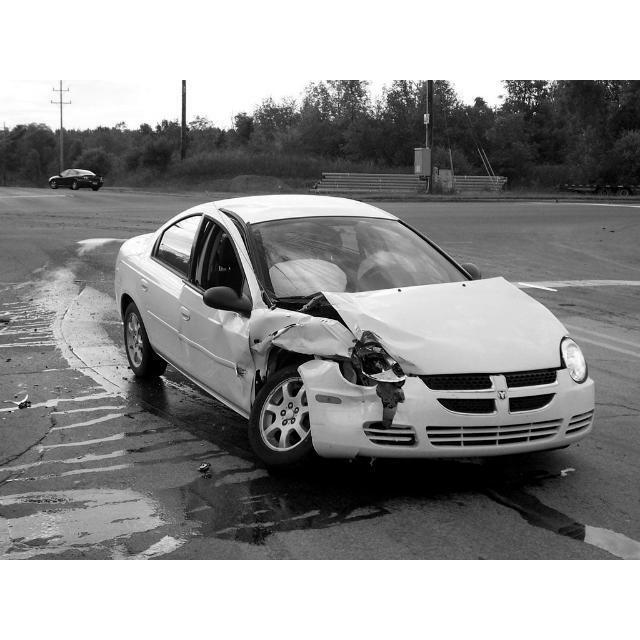Headlight-damage: (345, 338, 410, 408)
bonnet-dent: (327, 283, 419, 386)
doorouter-dent: (207, 297, 260, 410)
fender-dent: (254, 307, 339, 404)
